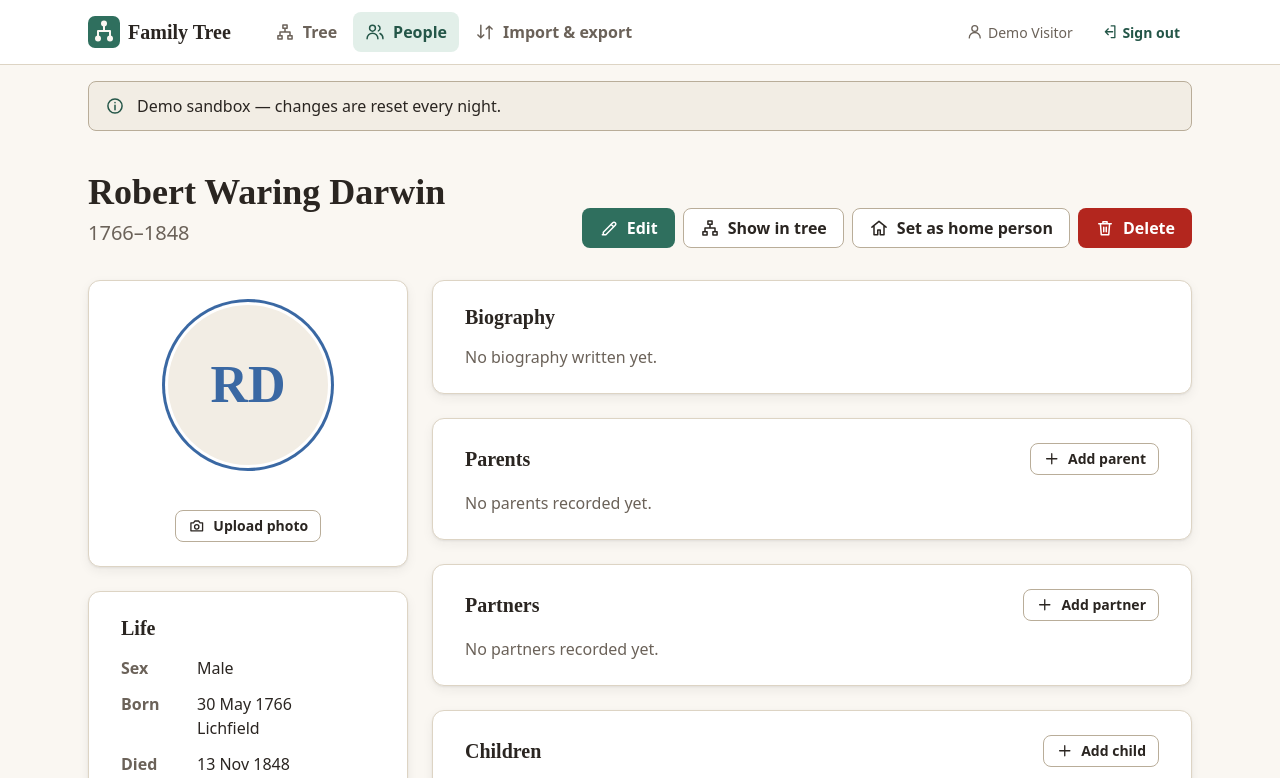
Test: a partner must be chosen and an impossible date is refused before sending
Click the button "Add partner" at (1091, 605), box [1023,589,1159,621]
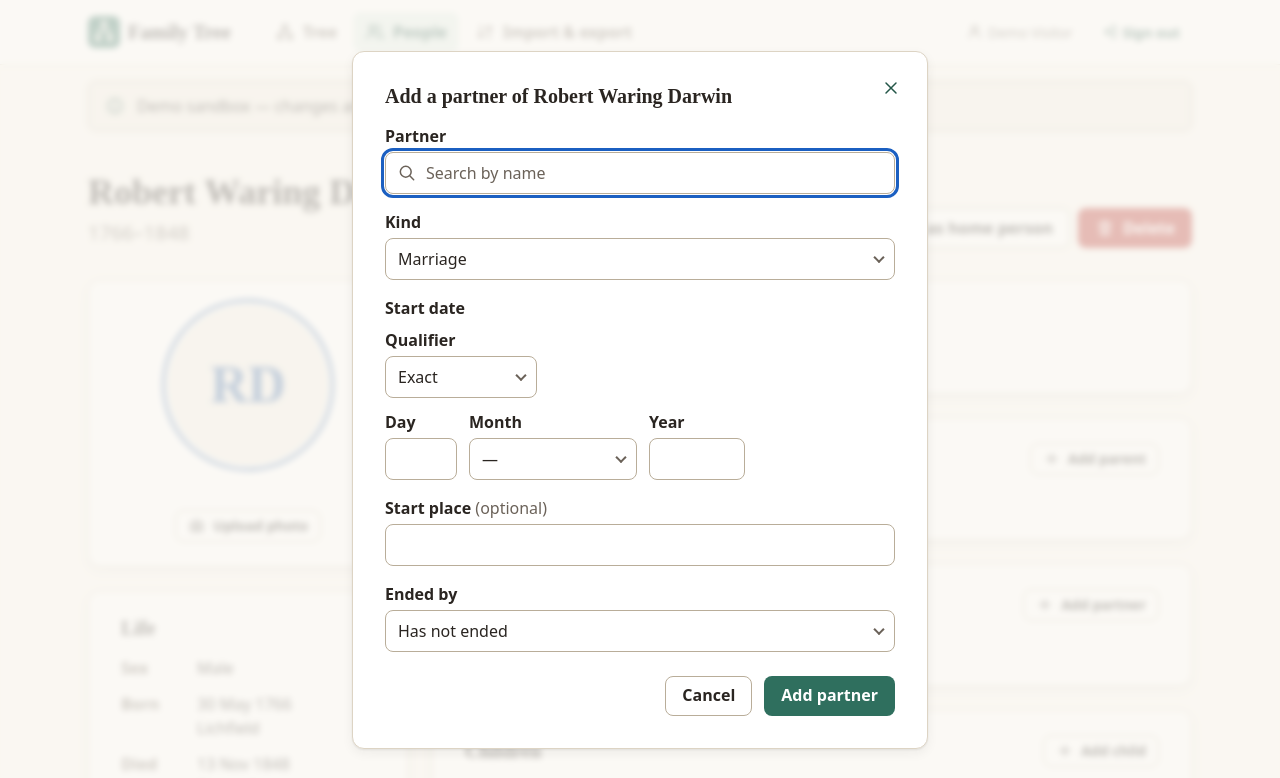
Type "0" into the field labelled "Year" at (697, 459), box [649,438,745,480]
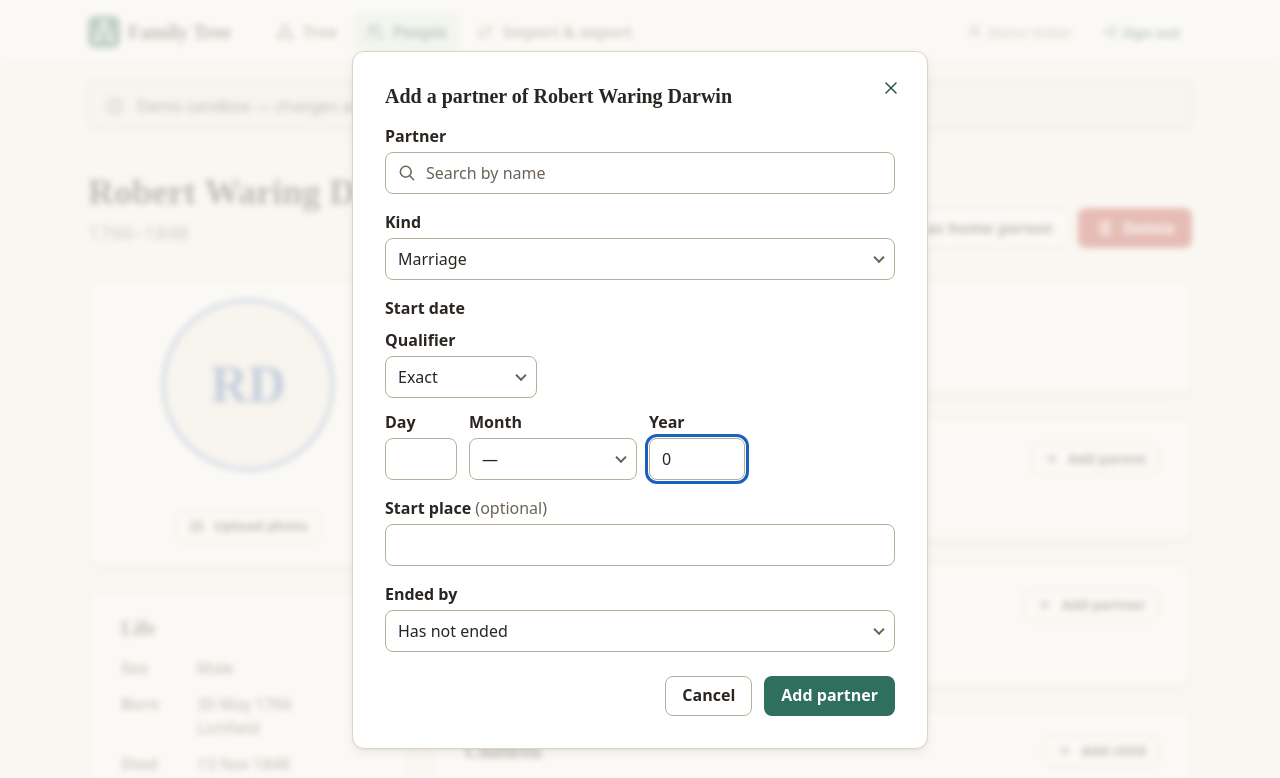
Click the button "Add partner" at (830, 696), box [764,676,895,716]
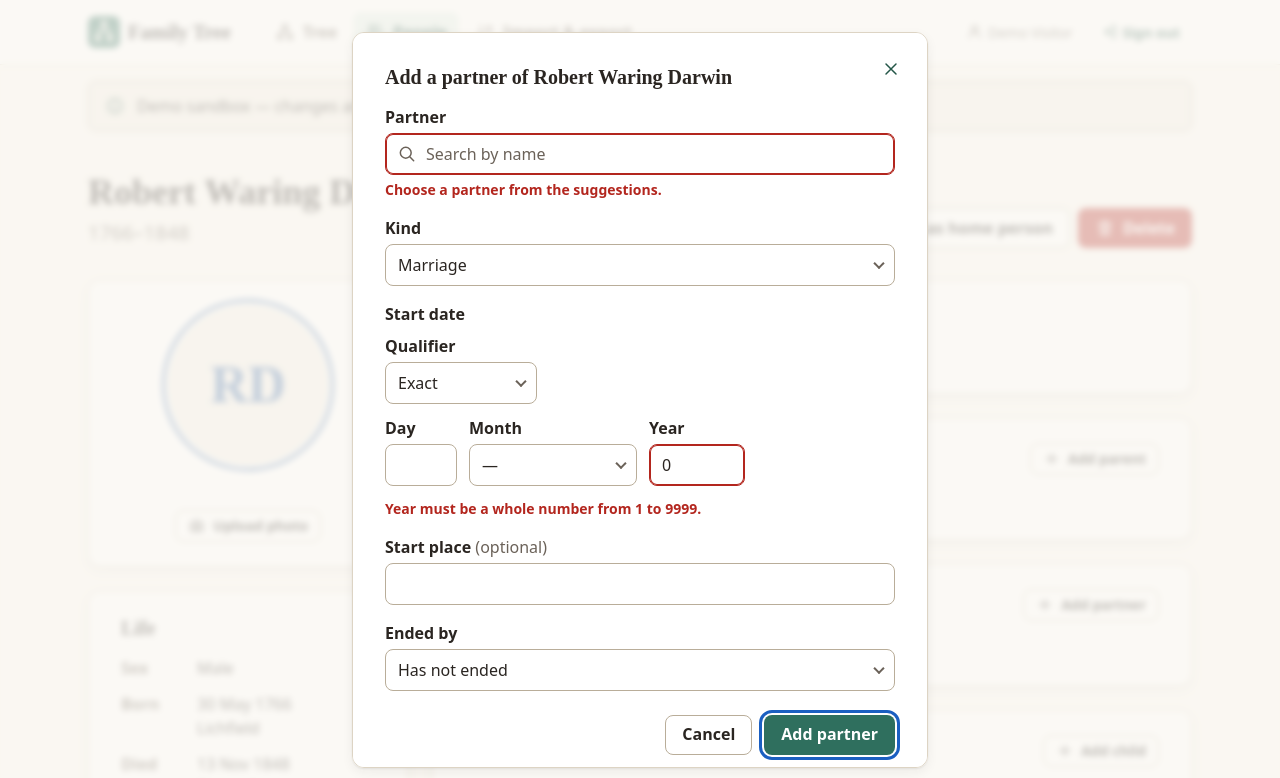
Expected: the text "Year must be a whole number from 1 to 9999." is shown, [385,499,701,518]
